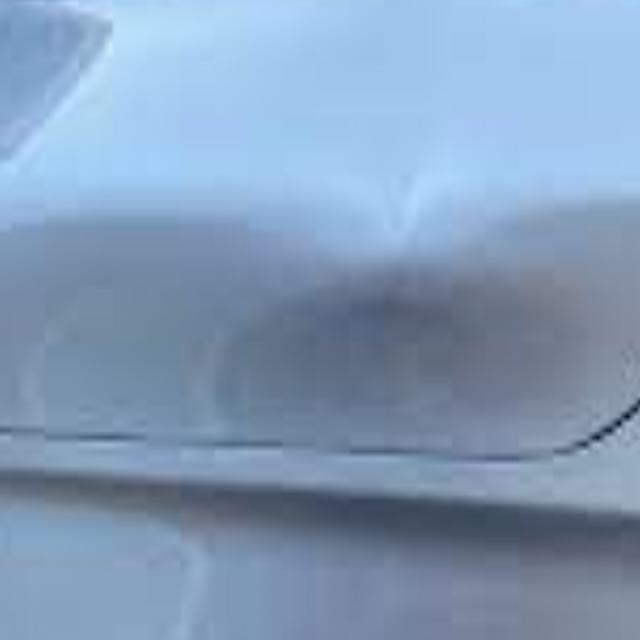dents: (181, 232, 540, 480)
